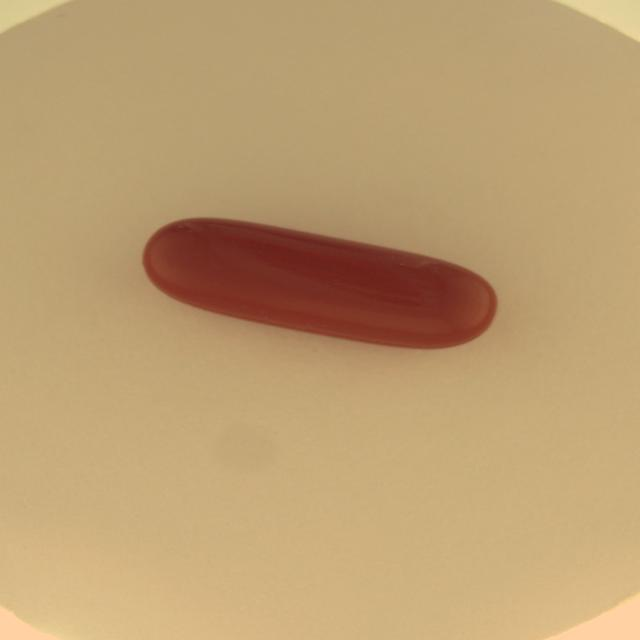Oval: (143, 215, 494, 349)
